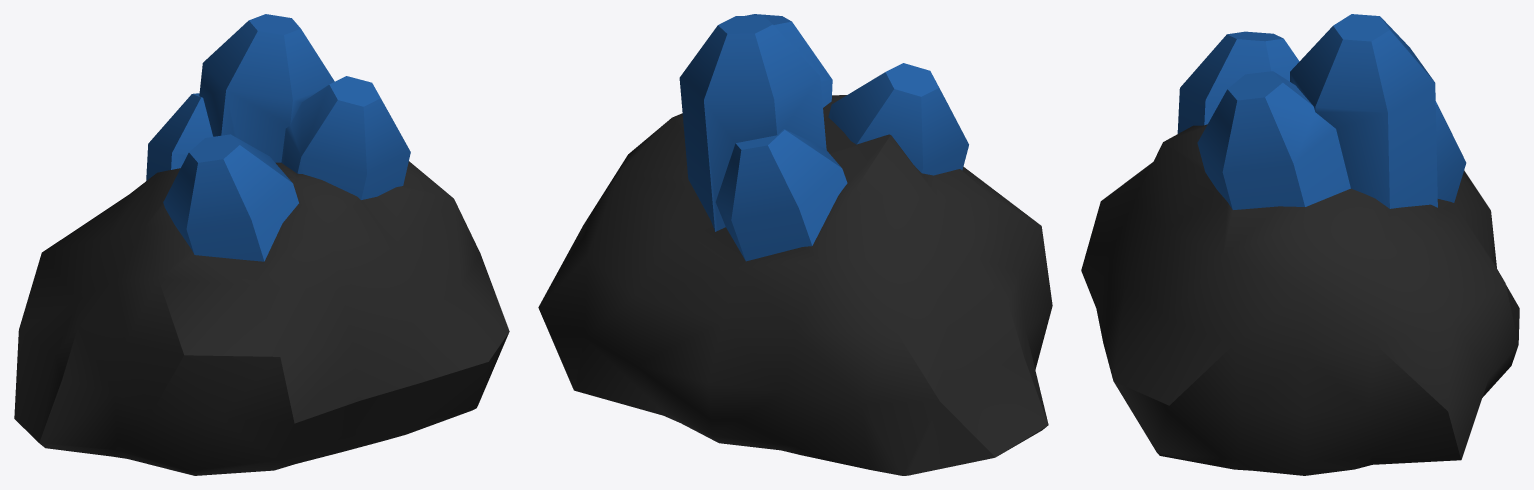
The model's file is erz.glb.
The picture shows the model from 3 angles, left to right: view 1: azimuth 30°, elevation 25°; view 2: azimuth 150°, elevation 25°; view 3: azimuth 270°, elevation 25°; orthographic projection. The views are drawn at different scales.
Parts seen in each view (by area): view 1: erz; view 2: erz; view 3: erz.
Part boxes in pixels (<box>): erz: <box>14,14,509,475</box>; erz: <box>538,14,1052,475</box>; erz: <box>1081,14,1519,475</box>.
Size of the model in its own units: 11.08 by 8.65 by 9.22.
